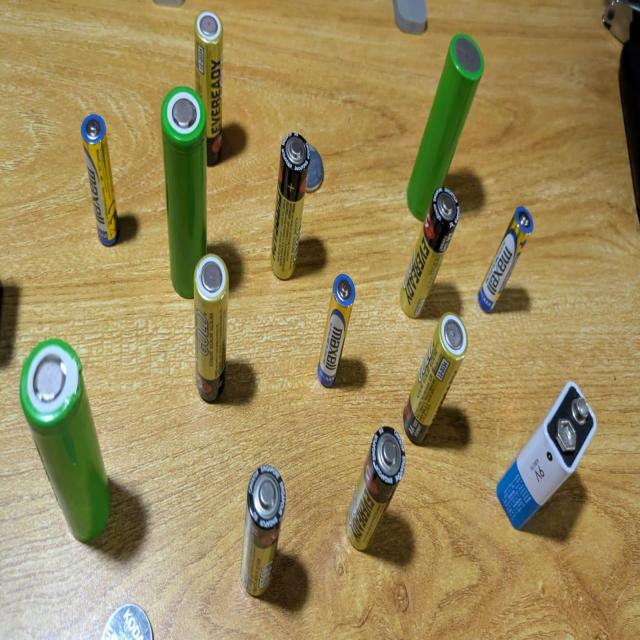9V: (492, 375, 600, 537)
AA: (402, 307, 470, 454), (344, 420, 408, 567), (396, 183, 464, 318), (240, 460, 288, 605), (270, 127, 311, 285), (192, 250, 232, 409), (193, 7, 228, 166)
AAA: (477, 201, 535, 318), (78, 112, 124, 251), (317, 266, 357, 398)
COIN: (100, 598, 156, 640), (306, 142, 328, 196)
